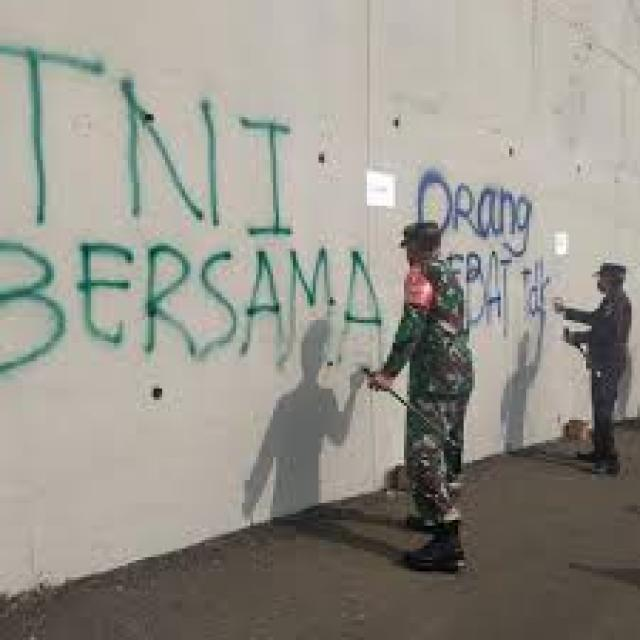-: (1, 43, 296, 237), (0, 239, 383, 371), (416, 168, 552, 326)
